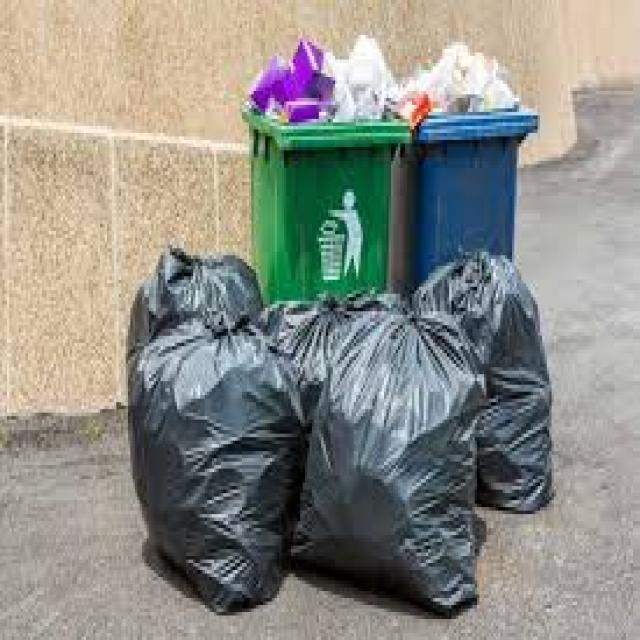garbage: (135, 258, 547, 594), (256, 48, 533, 290)
